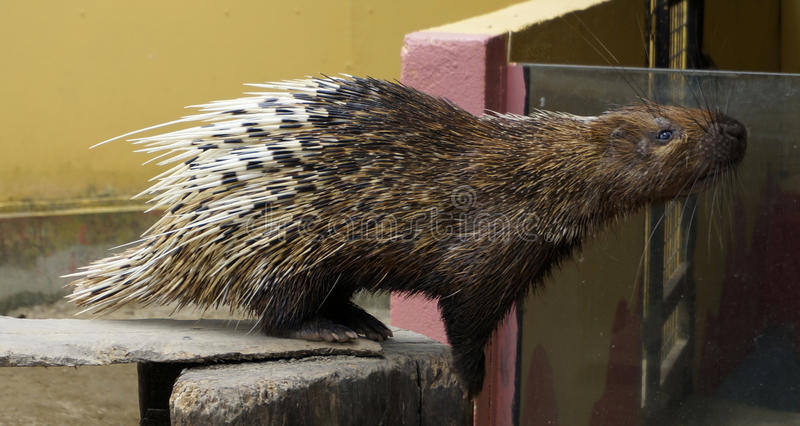porcupine: (65, 70, 764, 397)
